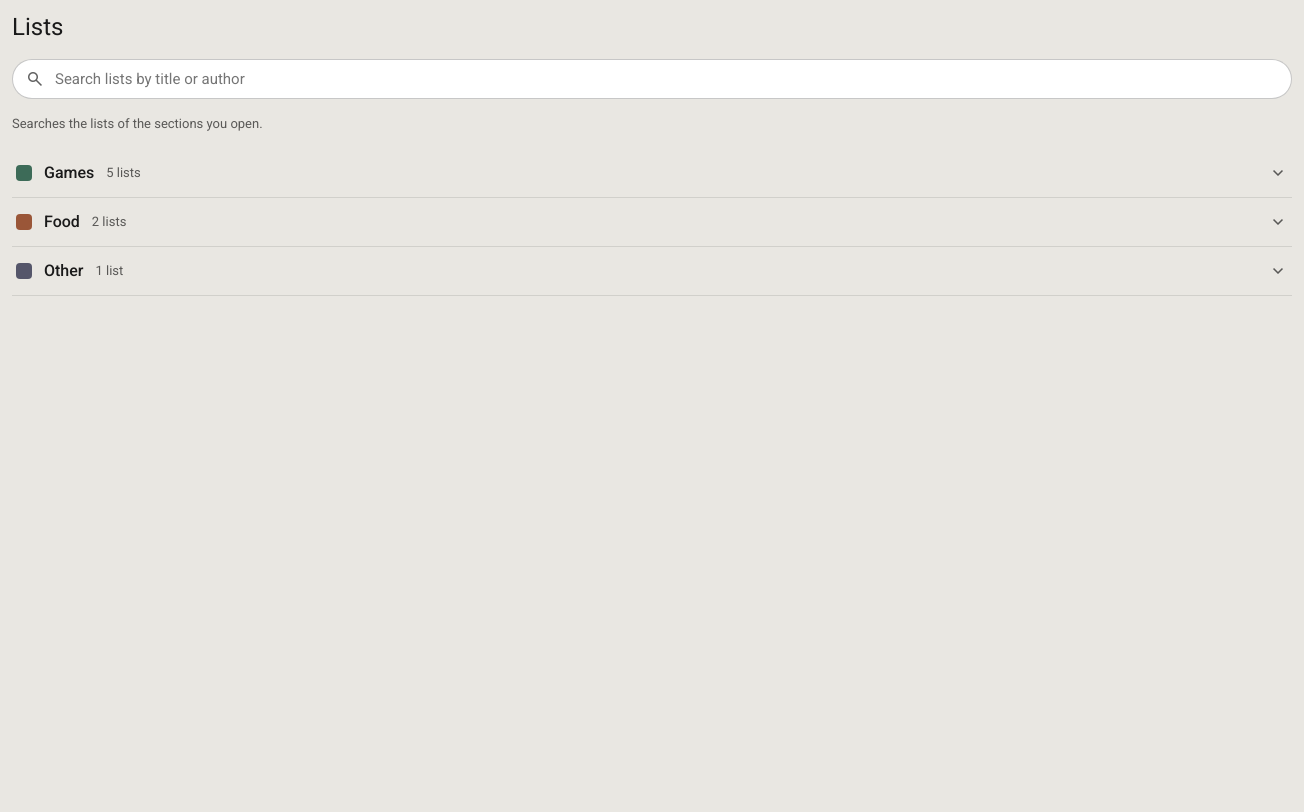
Test: ListsPane › lists the sections in the admin order with their counts, Other last, and opens one
Click the button "Games 5 lists". click: (69,172)
box: x1=12 y1=149 x2=1292 y2=197
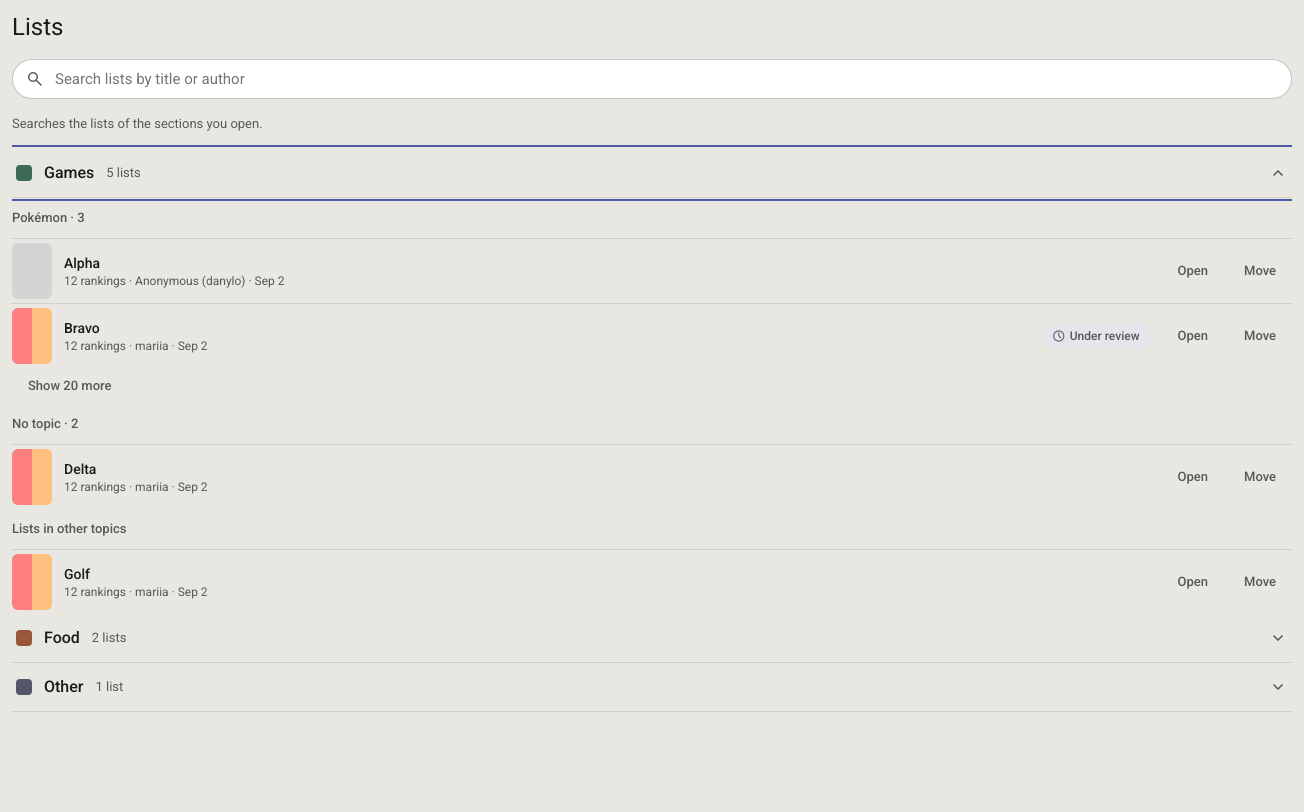
Now the button "Games 5 lists" is expanded
Now the element "No topic · 2" is shown, box x1=12 y1=404 x2=1292 y2=509
Now the list item "Alpha" shows "12 rankings · Anonymous (danylo) · Sep 2", box x1=64 y1=274 x2=284 y2=288
Click the button "Games 5 lists". click: (69,172)
box: x1=12 y1=149 x2=1292 y2=197
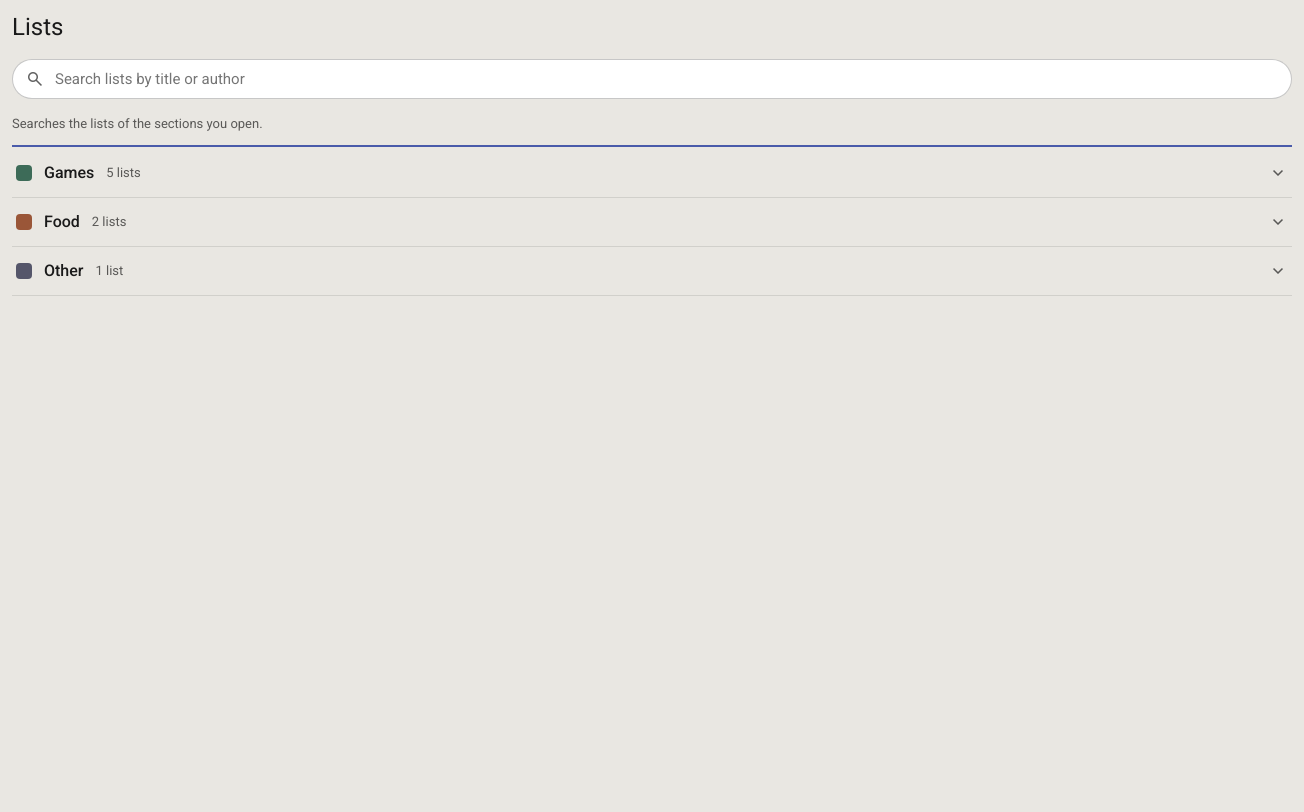
Now the text "Alpha" is gone
